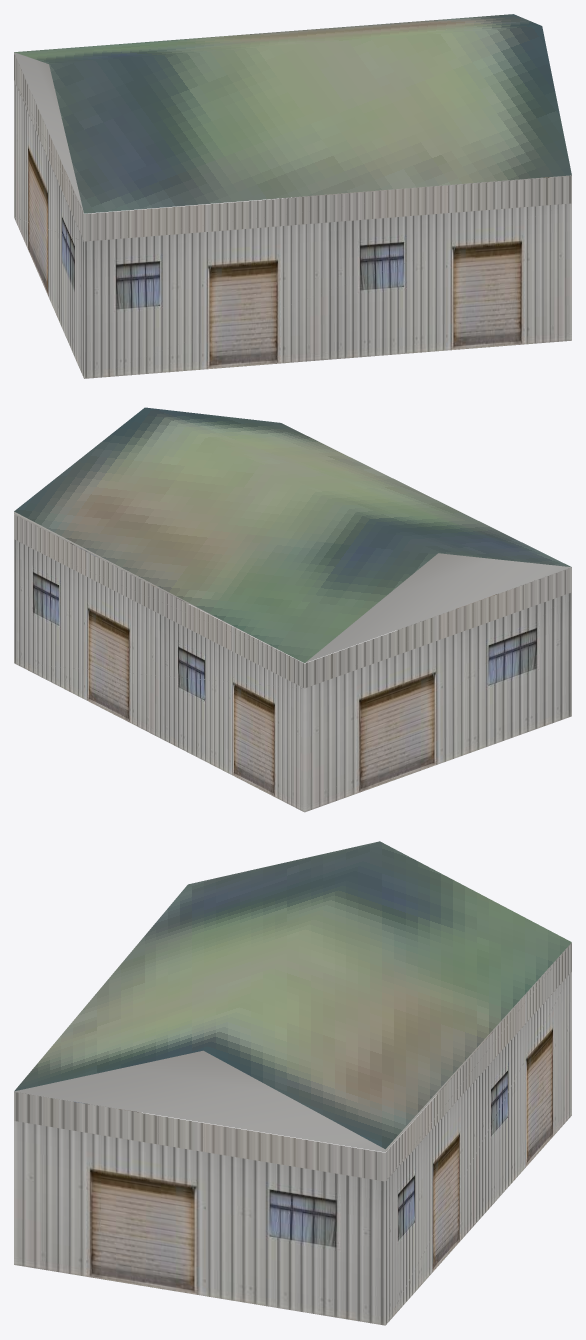
The model's file is T_1T4V44PHTA.dae.
3 views of the same model, one above another, from view 1: azimuth 30°, elevation 25°; view 2: azimuth 150°, elevation 25°; view 3: azimuth 270°, elevation 25° (orthographic). The views are drawn at different scales.
Parts seen in each view (by area): view 1: SketchUp (×4); view 2: SketchUp (×5); view 3: SketchUp (×4).
Part boxes in pixels (left/top/right/bottom): SketchUp (×4): left=14, top=14, right=571, bottom=378; SketchUp (×5): left=14, top=407, right=571, bottom=812; SketchUp (×4): left=14, top=841, right=571, bottom=1325.
Size of the model in its own units: 519 by 456 by 221.
Materials: 6 (6 with a texture image).
